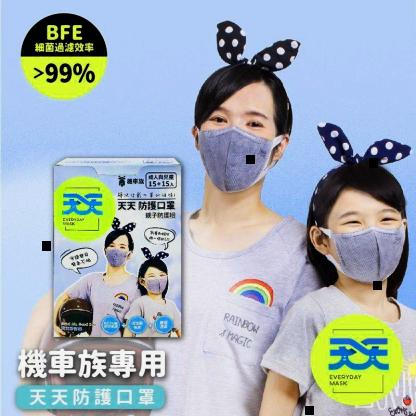mask: (188, 52, 292, 200), (303, 158, 410, 289)
